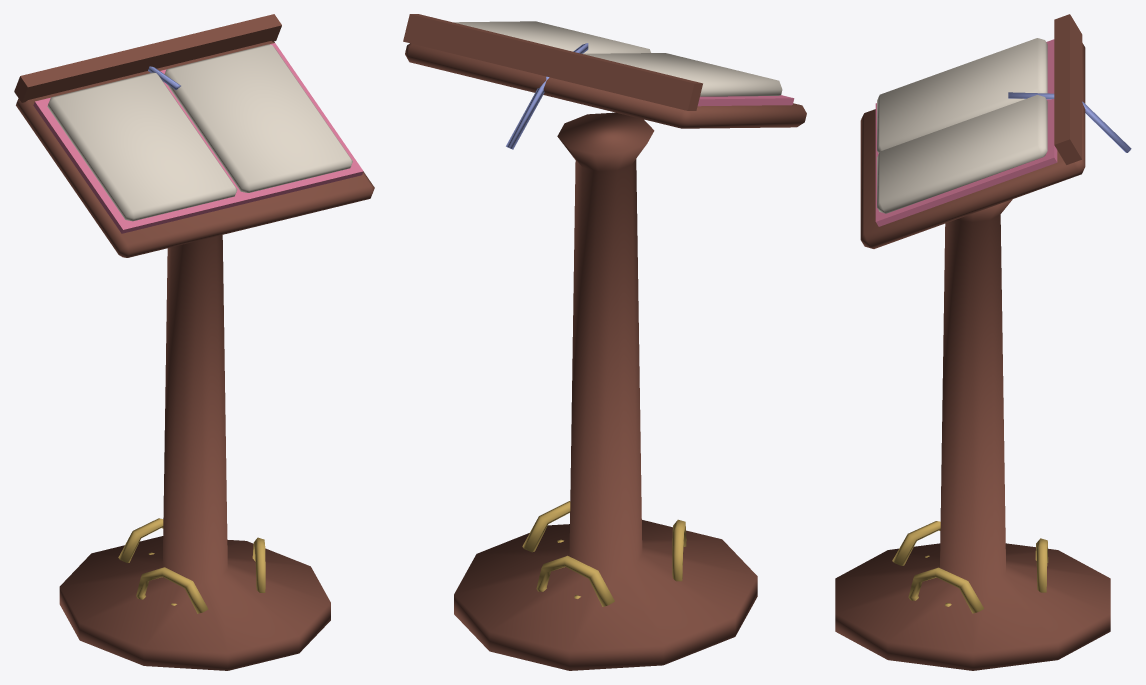
The model's file is reading_lectern.glb.
3 renders of one model, left to right at view 1: azimuth 30°, elevation 25°; view 2: azimuth 150°, elevation 25°; view 3: azimuth 270°, elevation 25°, orthographic. The views are drawn at different scales.
Parts seen in each view (by area): view 1: reading_lectern; view 2: reading_lectern; view 3: reading_lectern.
Part boxes in pixels (x1,y1,x2,y2): reading_lectern: (14,14,374,670); reading_lectern: (403,14,806,670); reading_lectern: (835,14,1131,670).
Size of what is drawn, in the model's own units: 0.6 by 1.2 by 0.6.
